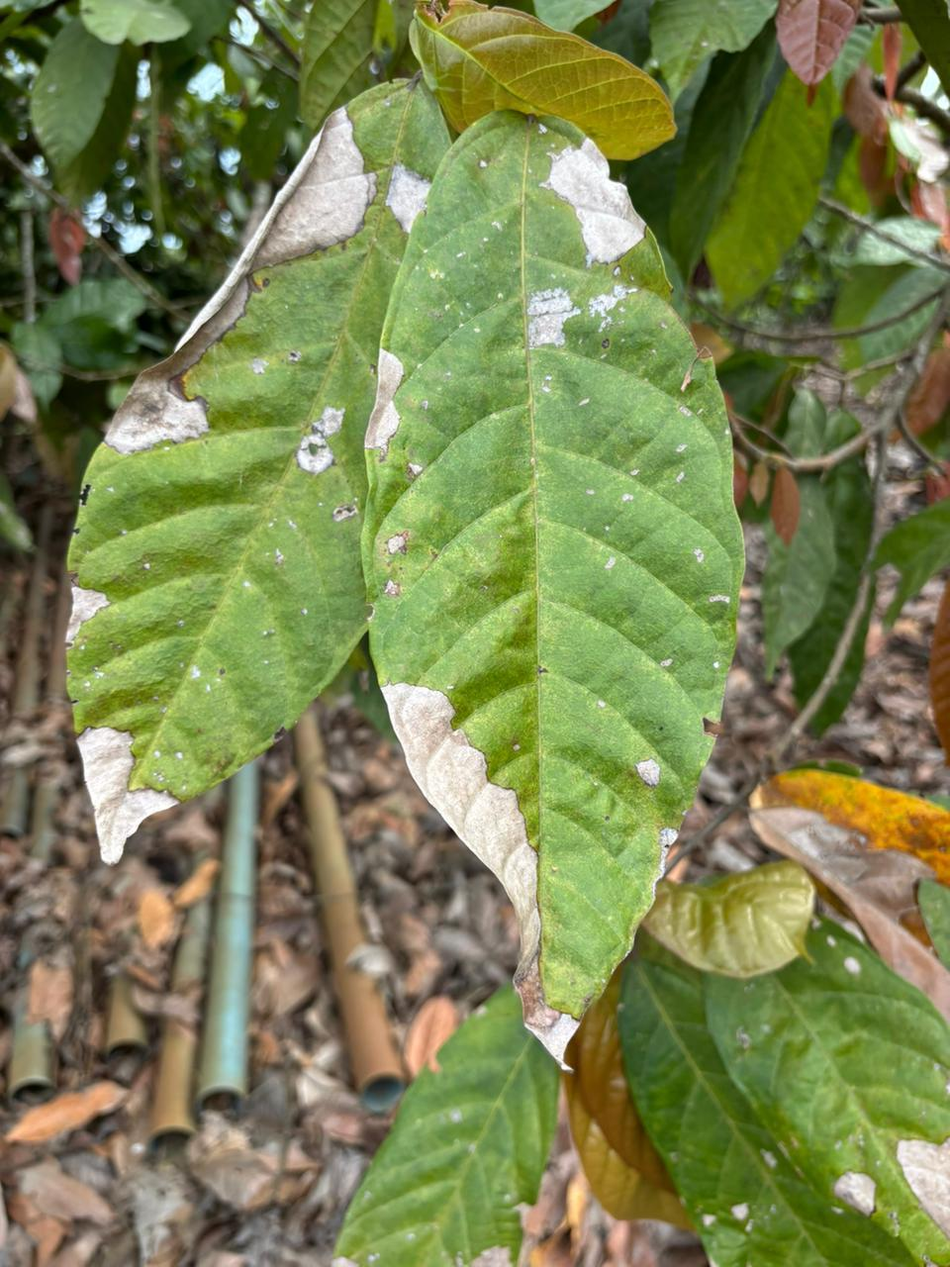deficiencia_potasio: (362, 112, 742, 1058), (67, 84, 447, 861)
